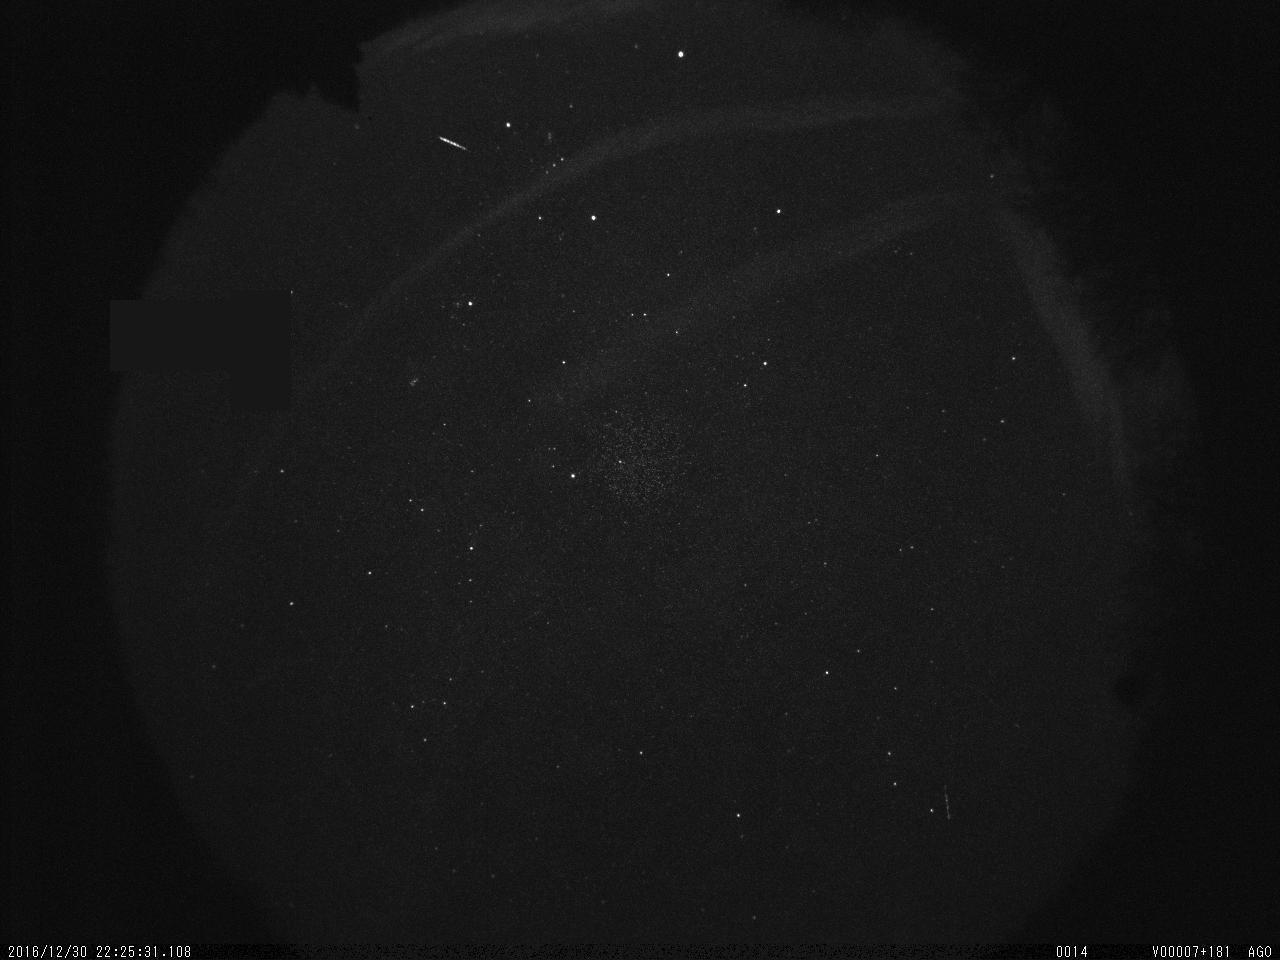Meteor: (436, 133, 468, 152)
